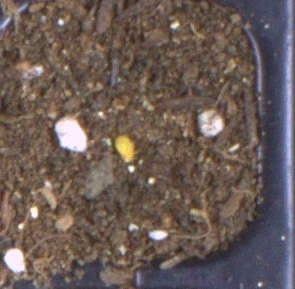chilli seed: (113, 134, 135, 164)
